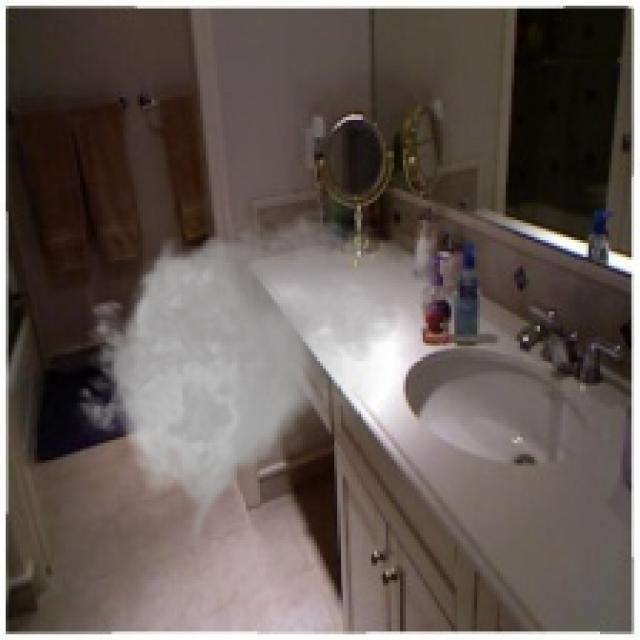smoke: (66, 200, 448, 551)
